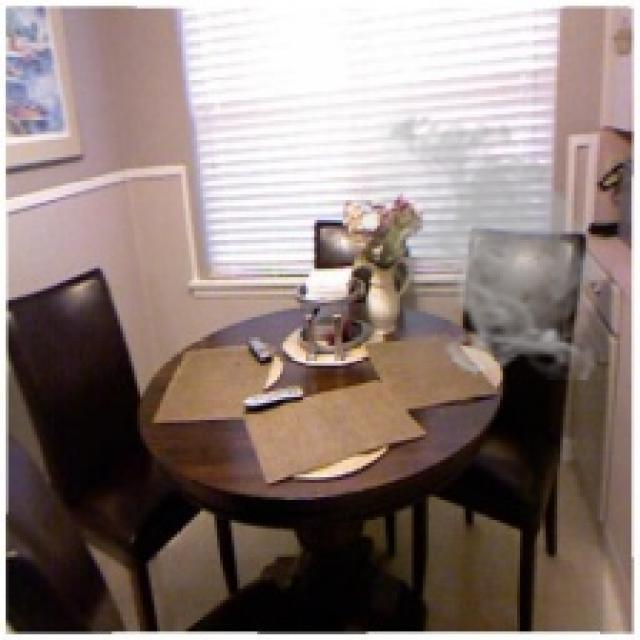Smoke: (361, 106, 608, 380)
